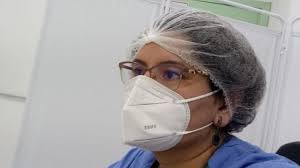with_mask_and_cap: (120, 18, 224, 149)
